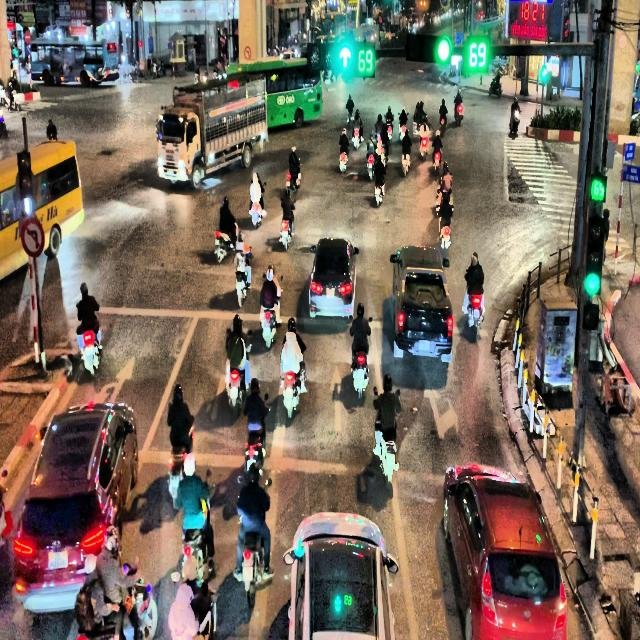lisence_plate: (46, 548, 69, 571), (323, 285, 335, 300), (418, 340, 431, 351)
